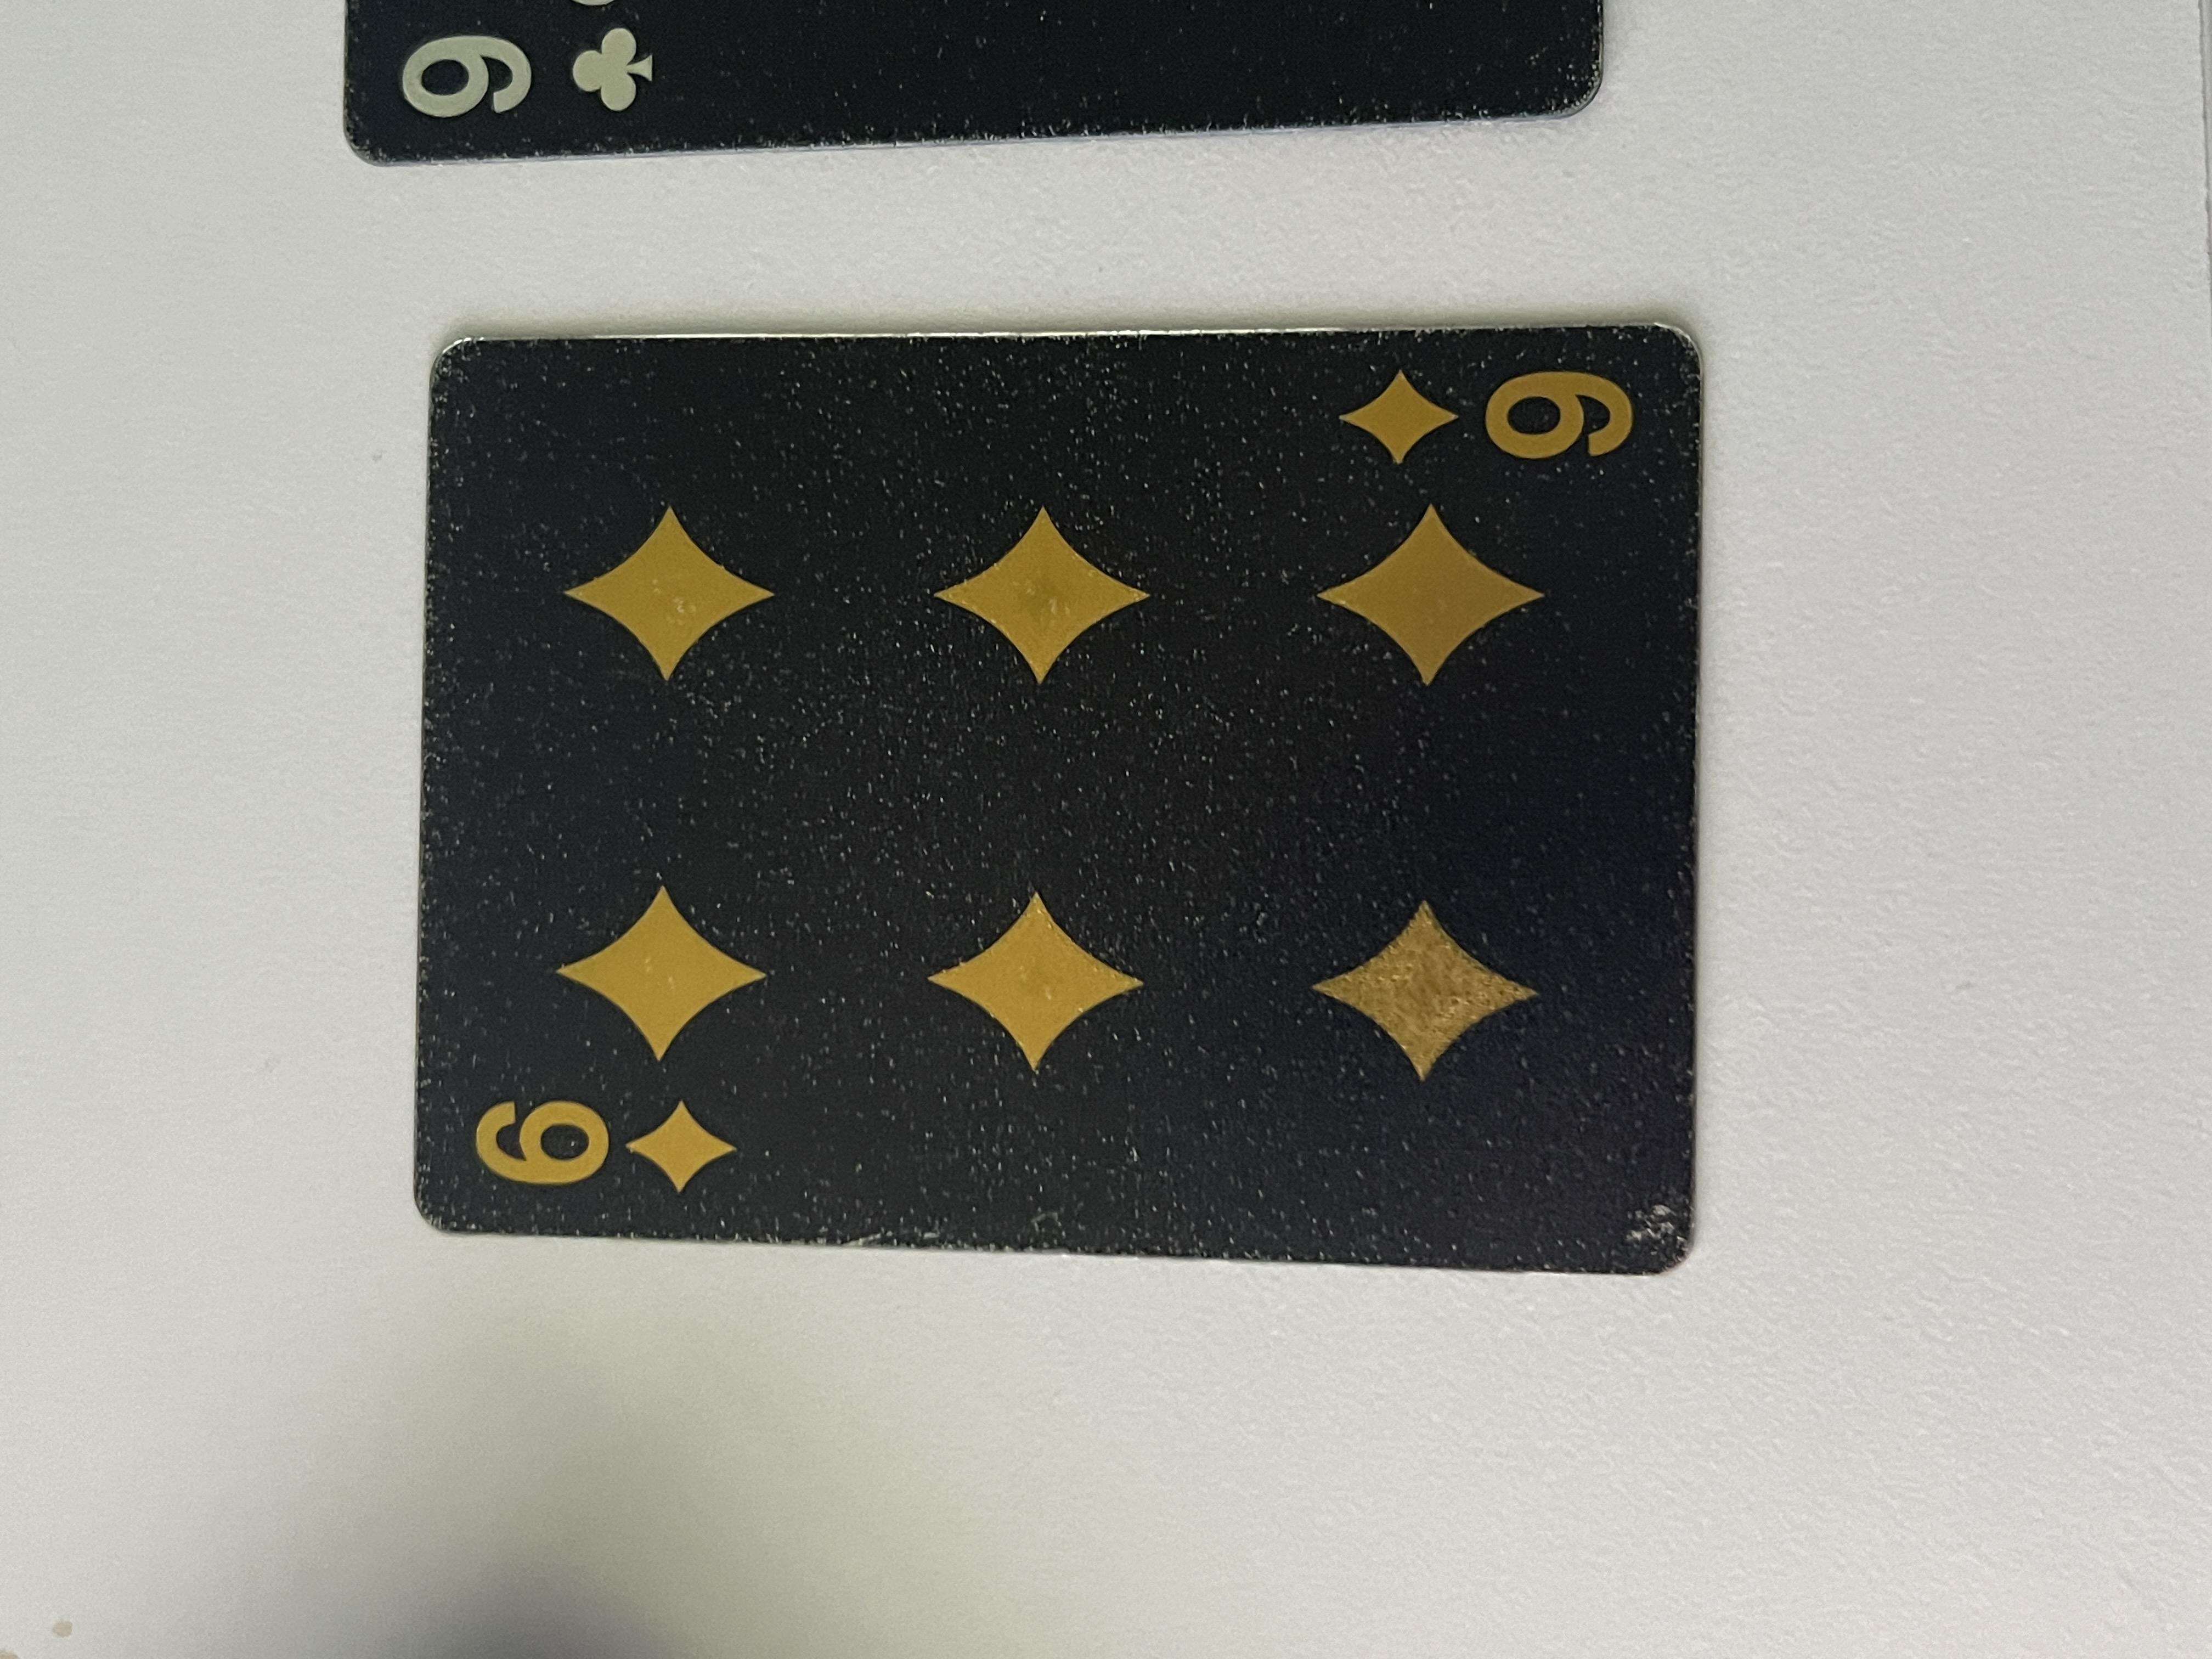6D: (585, 333, 808, 561), (1580, 1000, 1752, 1243)
9C: (2026, 275, 2202, 498)
